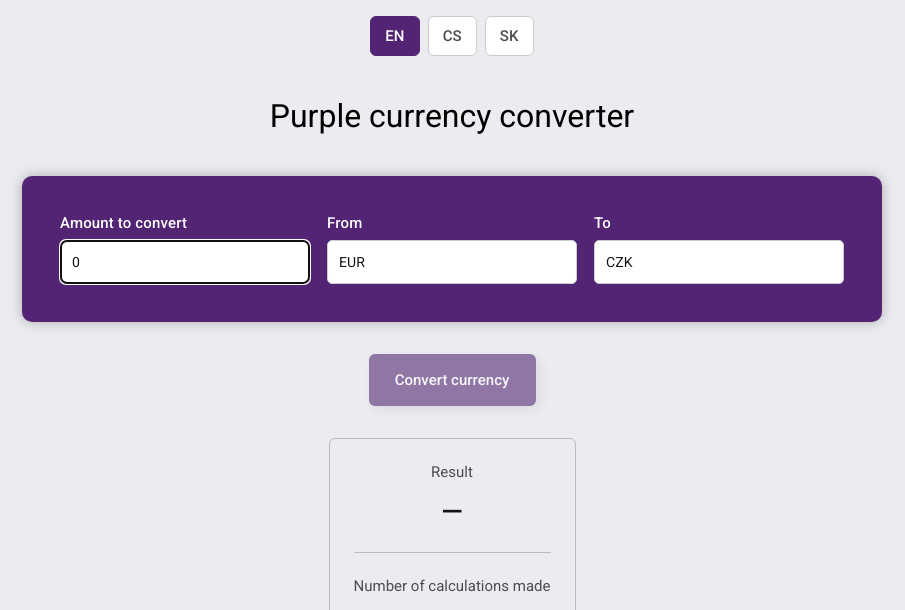
Test case: the in-flight announcement and the error placements (§10) › renders a sameCurrency 400 INSIDE the form, away from the amount field
In the field labelled "Amount to convert": point(185, 262) [60, 240, 310, 284], type "100"
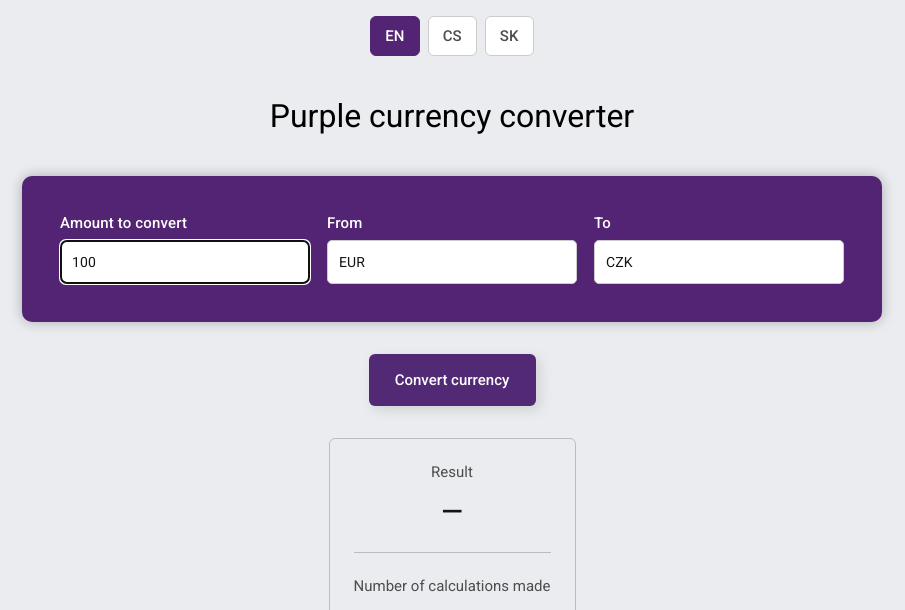
Click the button "Convert currency": point(452, 380) [368, 354, 536, 406]
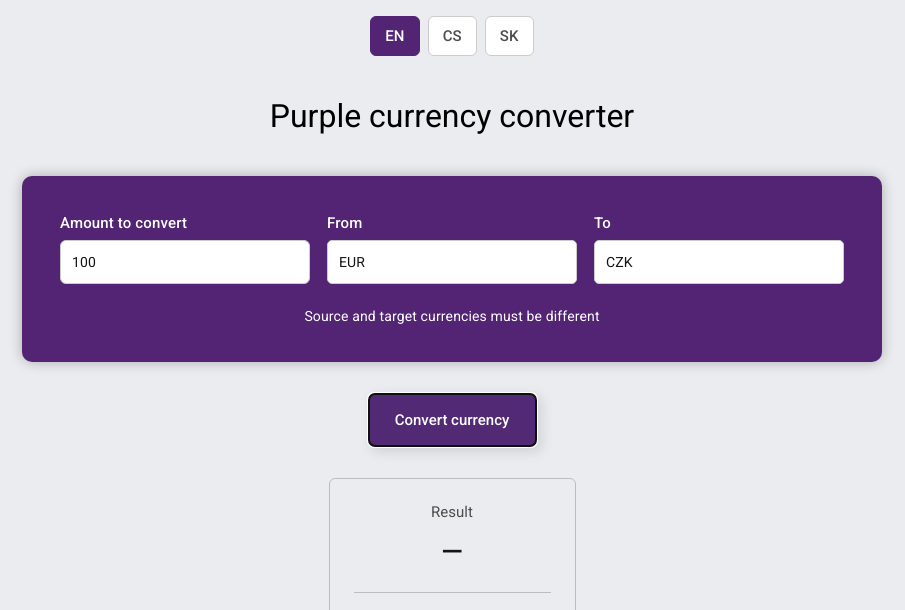
Expected: the form is shown, [22, 176, 882, 446]
Expected: the message reads "Source and target currencies must be different", [304, 308, 600, 324]
